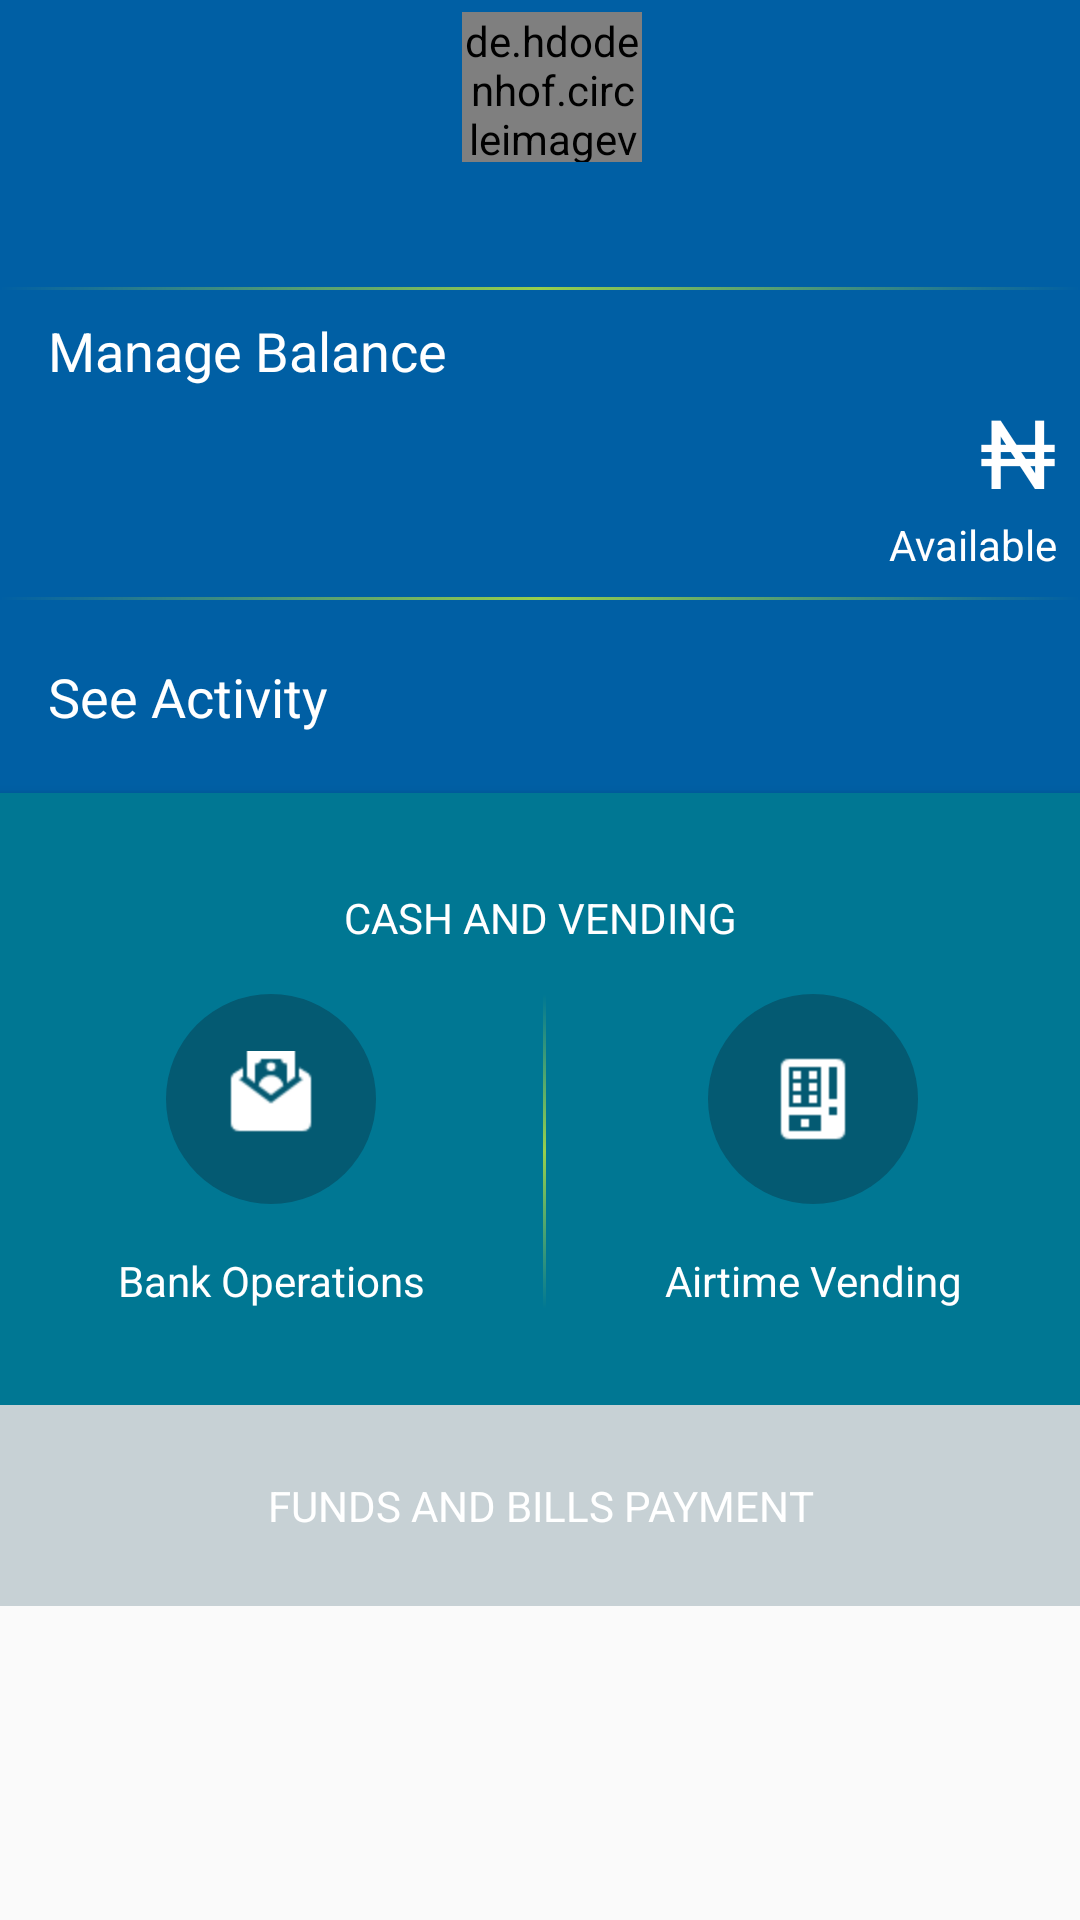

Locate icon controls on the screen. Image size 1080x1920, boxes as box(x1, y1, x2, y2).
money transfer: box(166, 994, 376, 1204)
